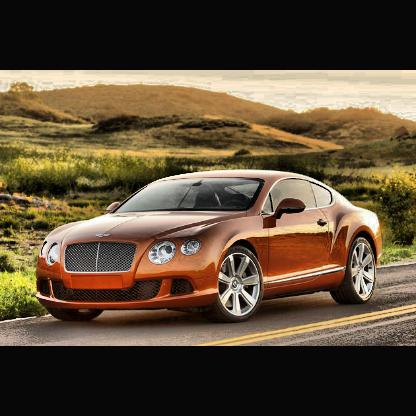Bentley Continental GT Coupe 2007: (38, 171, 382, 324)
